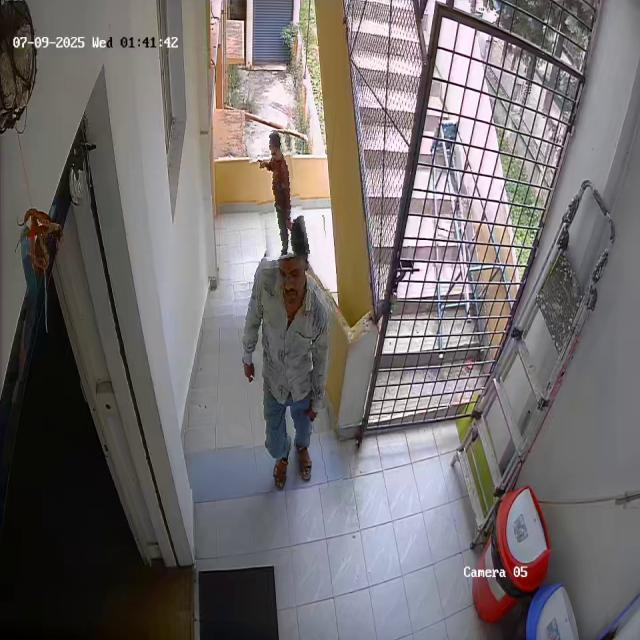person: (232, 216, 338, 492), (251, 130, 305, 260)
